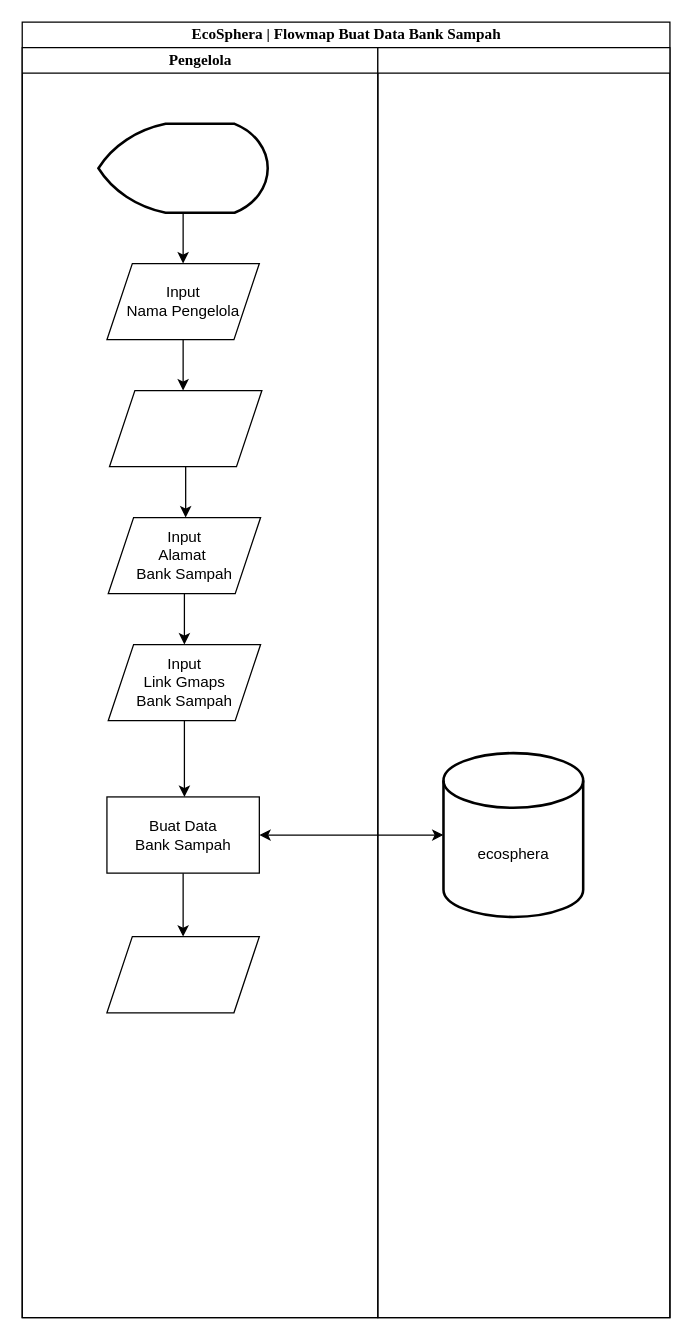
This 692x1340 diagram has some shape labels left out. Each missing label, with the box of its shape:
Data Bank Sampah: (106, 935, 259, 1013)
Form buat data bank sampah: (97, 122, 268, 213)
Input Nama Bank Sampah: (108, 389, 262, 467)
Sistem: (377, 46, 670, 1318)
